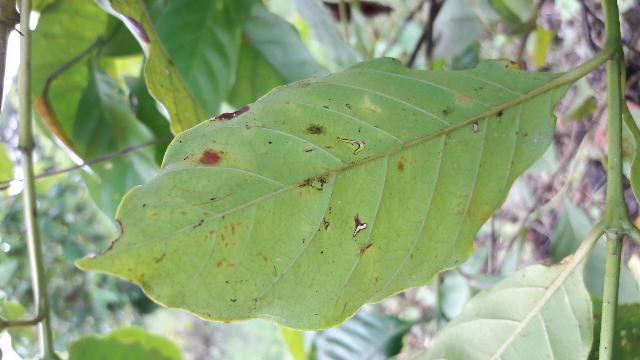red_spider_mite: (74, 57, 562, 328)
